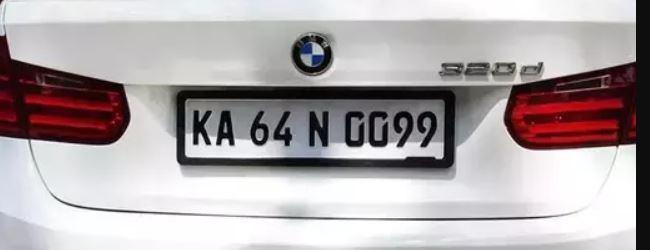number_plate: (179, 91, 453, 165)
